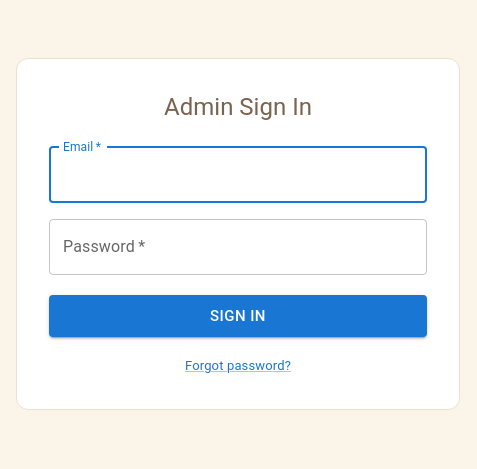
AdminLoginPage › asks for an email before sending a reset link
What coordinates should you click on to do the following:
click the button "Forgot password?"
I would click on:
 (238, 366)
Its box is [185,356,291,376].
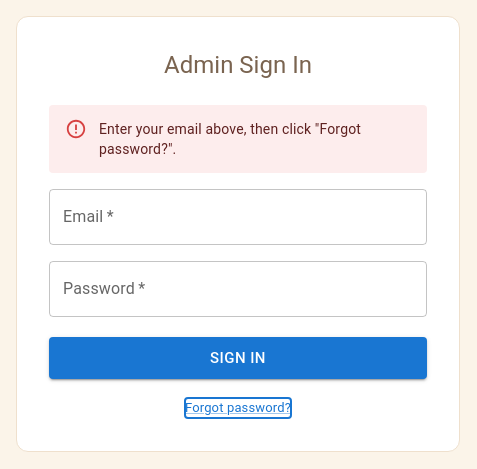
expect the text "Enter your email above, then click \"Forgot password?\"." is shown: met, box [99,121,361,157]
